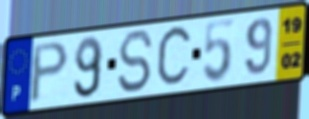5: (201, 17, 238, 85)
9: (72, 34, 105, 101), (243, 16, 274, 78)
C: (155, 21, 195, 92)
P: (27, 39, 71, 106)
S: (116, 29, 155, 95)
